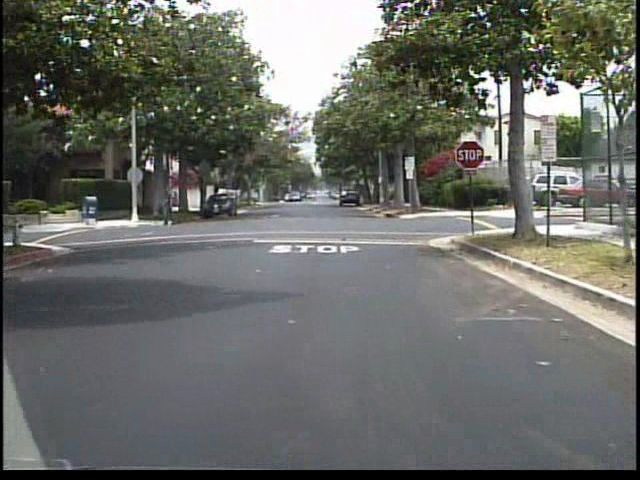person: (157, 180, 181, 229)
